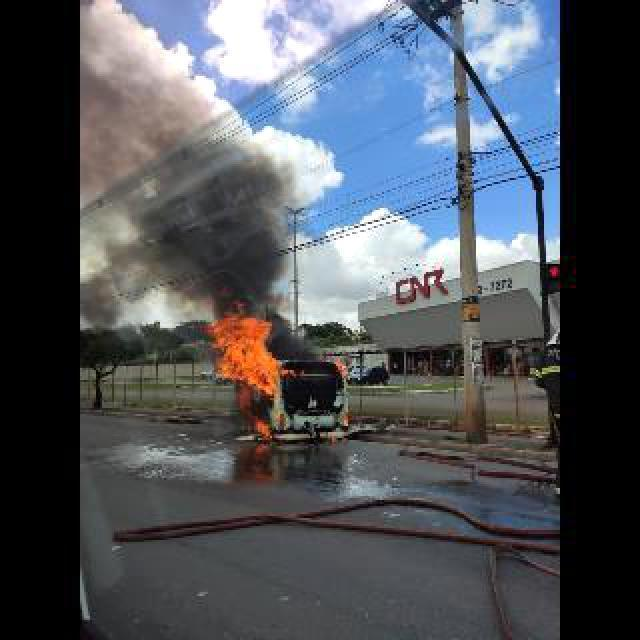Fire: (204, 302, 296, 402), (249, 411, 274, 442)
Smoke: (79, 60, 298, 308)
